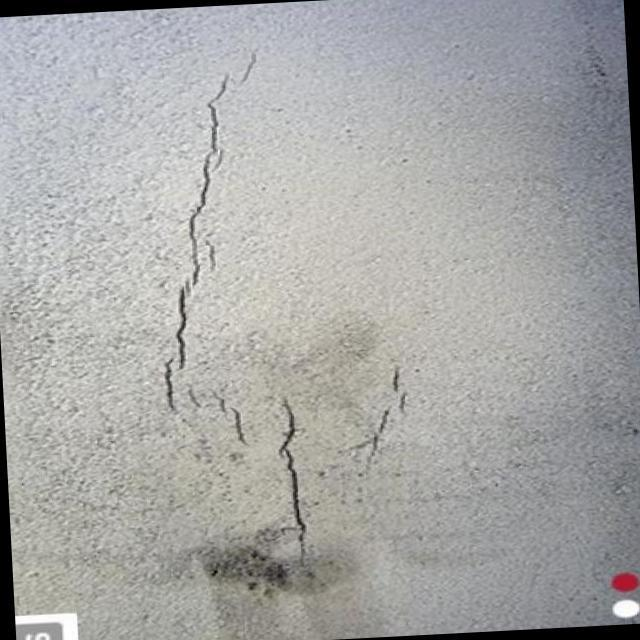defect: (160, 49, 262, 446), (274, 397, 309, 570), (366, 363, 412, 455)
